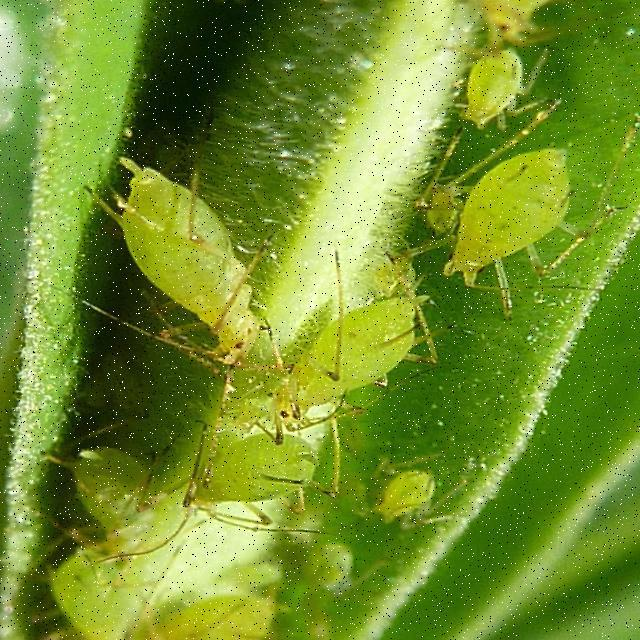Aphids: (16, 104, 114, 169), (129, 91, 195, 167), (113, 23, 202, 75), (12, 4, 73, 40), (53, 69, 101, 96), (8, 73, 47, 97)
